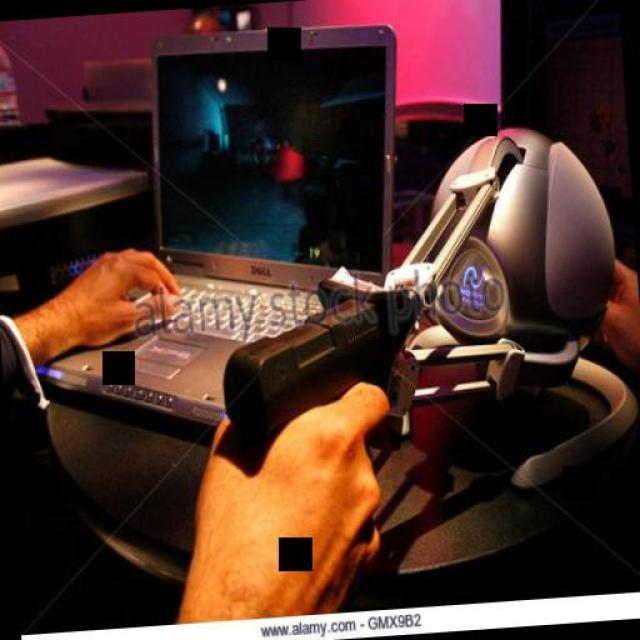gun: (212, 255, 418, 495)
